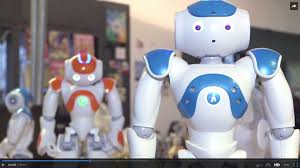nao: (125, 4, 300, 153), (33, 41, 124, 155), (3, 88, 31, 156)
